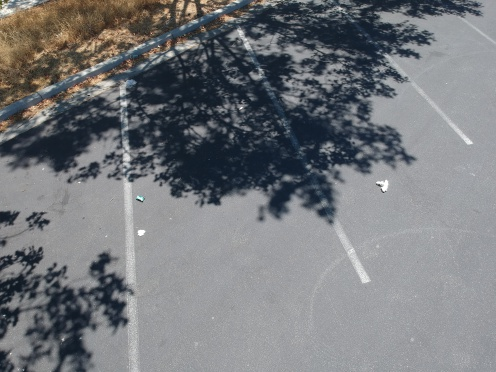can: (127, 52, 145, 60)
plastic bag: (117, 71, 145, 92), (370, 173, 393, 197)
